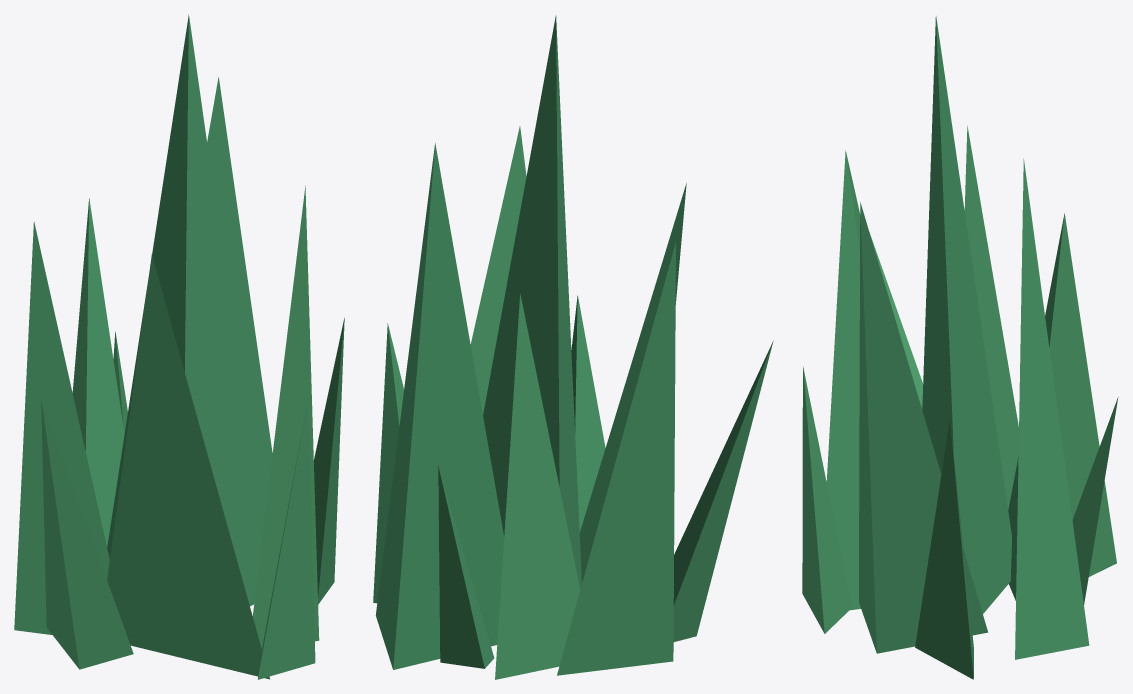
Rendered from Light Grass.fbx.
The picture shows the model from 3 angles, left to right: view 1: azimuth 30°, elevation 25°; view 2: azimuth 150°, elevation 25°; view 3: azimuth 270°, elevation 25°; orthographic projection. The views are drawn at different scales.
Visible parts, largest first — view 1: Light_Grass; view 2: Light_Grass; view 3: Light_Grass.
Boxes of the visible parts, bbox=[...] form: Light_Grass: bbox=[14, 14, 344, 679]; Light_Grass: bbox=[373, 15, 773, 679]; Light_Grass: bbox=[802, 16, 1118, 679].
Size of the model in its own units: 0.4867 by 0.8348 by 0.4026.
